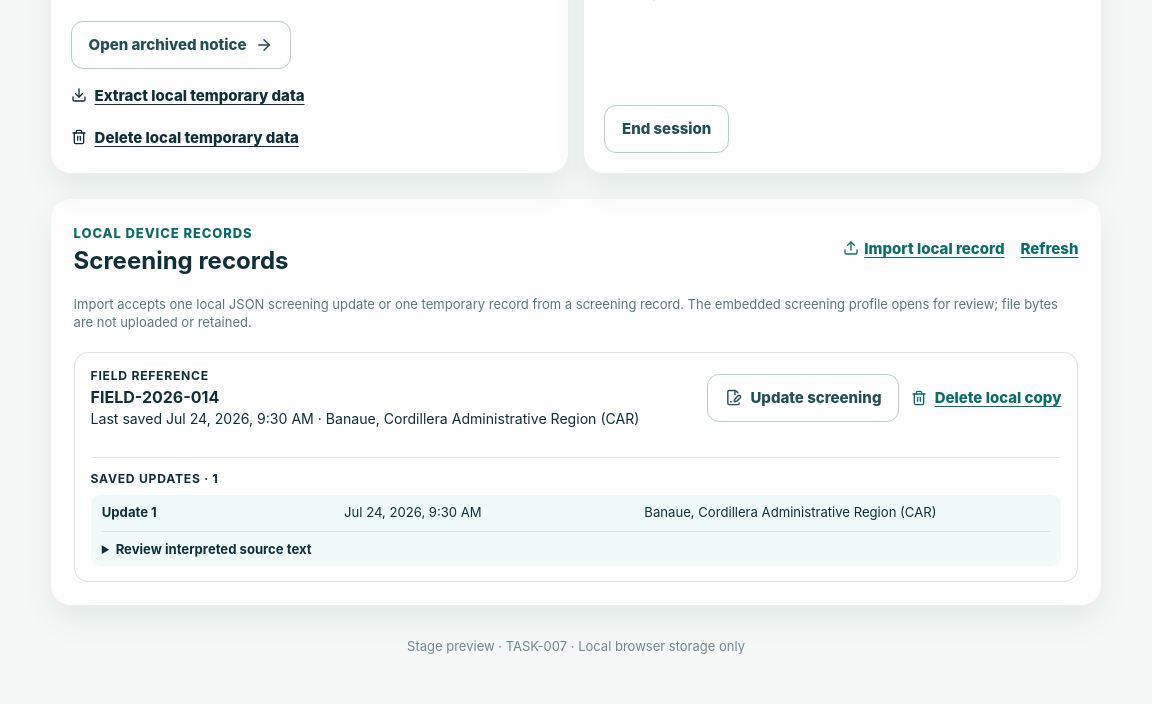
Test: TASK-007 clinician encounter dashboard › shows retained source text in the update where it was recorded
(page scrolled)
Click the heading "Review interpreted source text": (207, 549) [102,541,312,557]
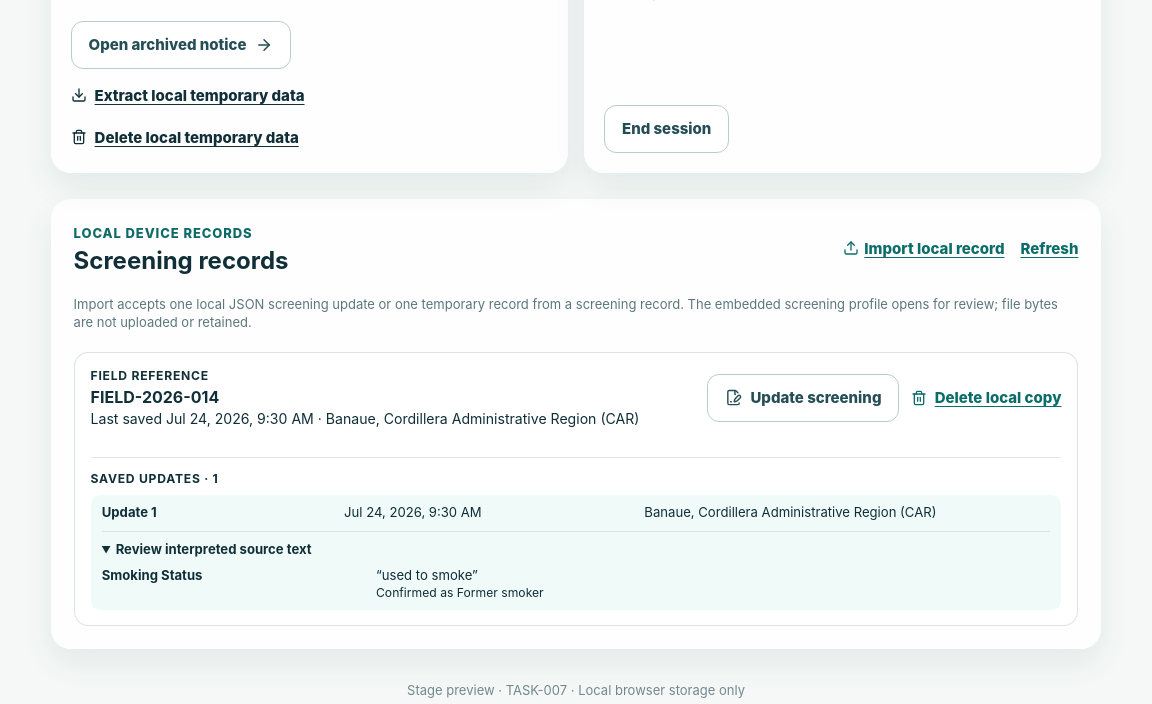
expect the text "used to smoke" is shown: met, box [382,567,472,583]
expect the text "Confirmed as Former smoker" is shown: met, box [376,585,544,600]
